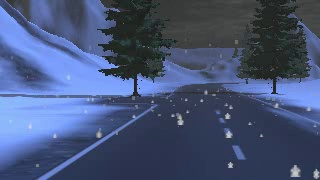Lane: (43, 83, 319, 179)
